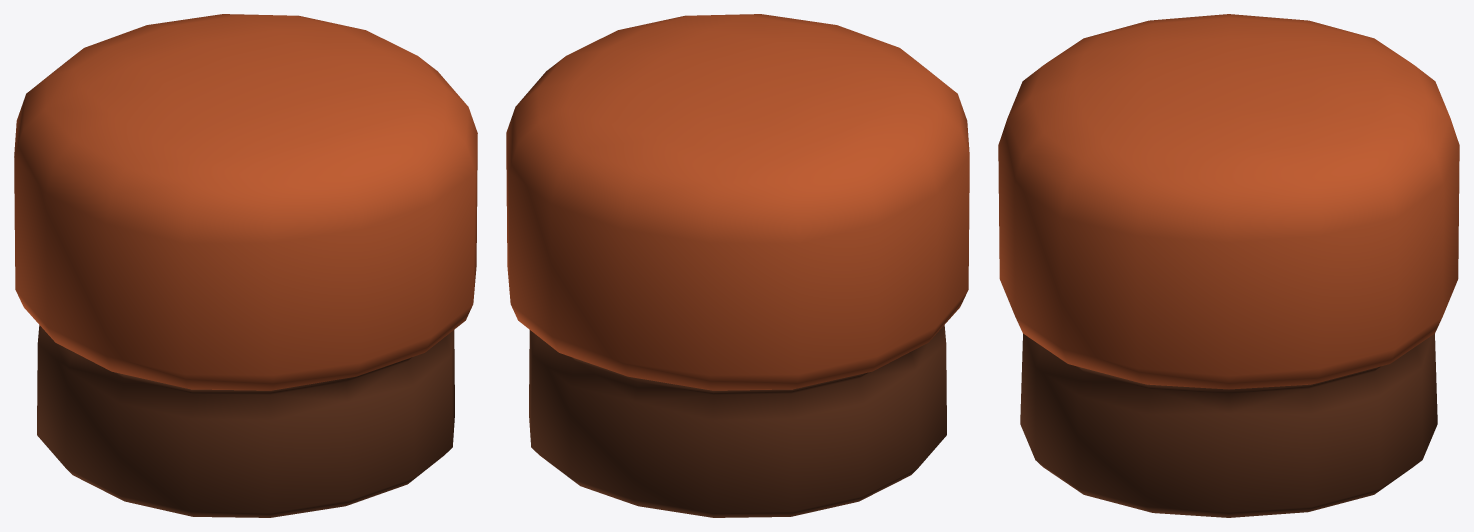
File: fitting_room_seat_improved.fbx
3 views of the same model, side by side, from view 1: azimuth 30°, elevation 25°; view 2: azimuth 150°, elevation 25°; view 3: azimuth 270°, elevation 25° (orthographic).
Visible parts, largest first — view 1: Cube.015; view 2: Cube.015; view 3: Cube.015.
Boxes of the visible parts, left/top/right/bottom form: Cube.015: left=14, top=14, right=477, bottom=517; Cube.015: left=506, top=14, right=969, bottom=517; Cube.015: left=998, top=14, right=1459, bottom=517.
Bounding box in the file's own units: 203 × 180 × 203.
